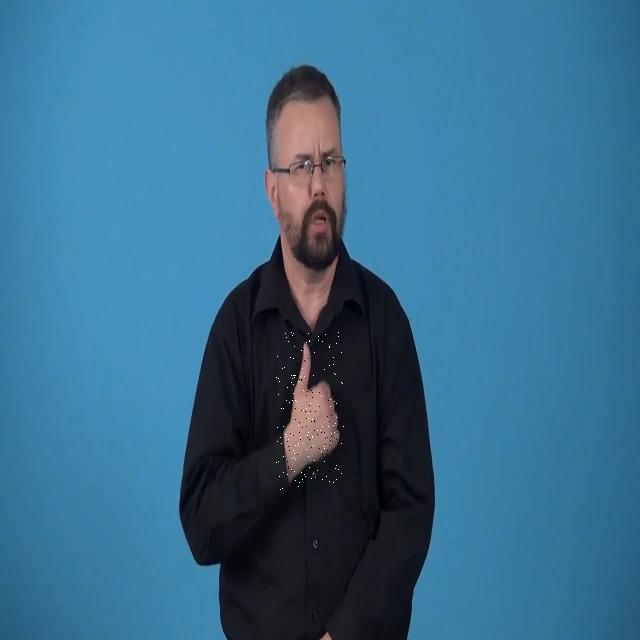repeat: (276, 332, 344, 490)
